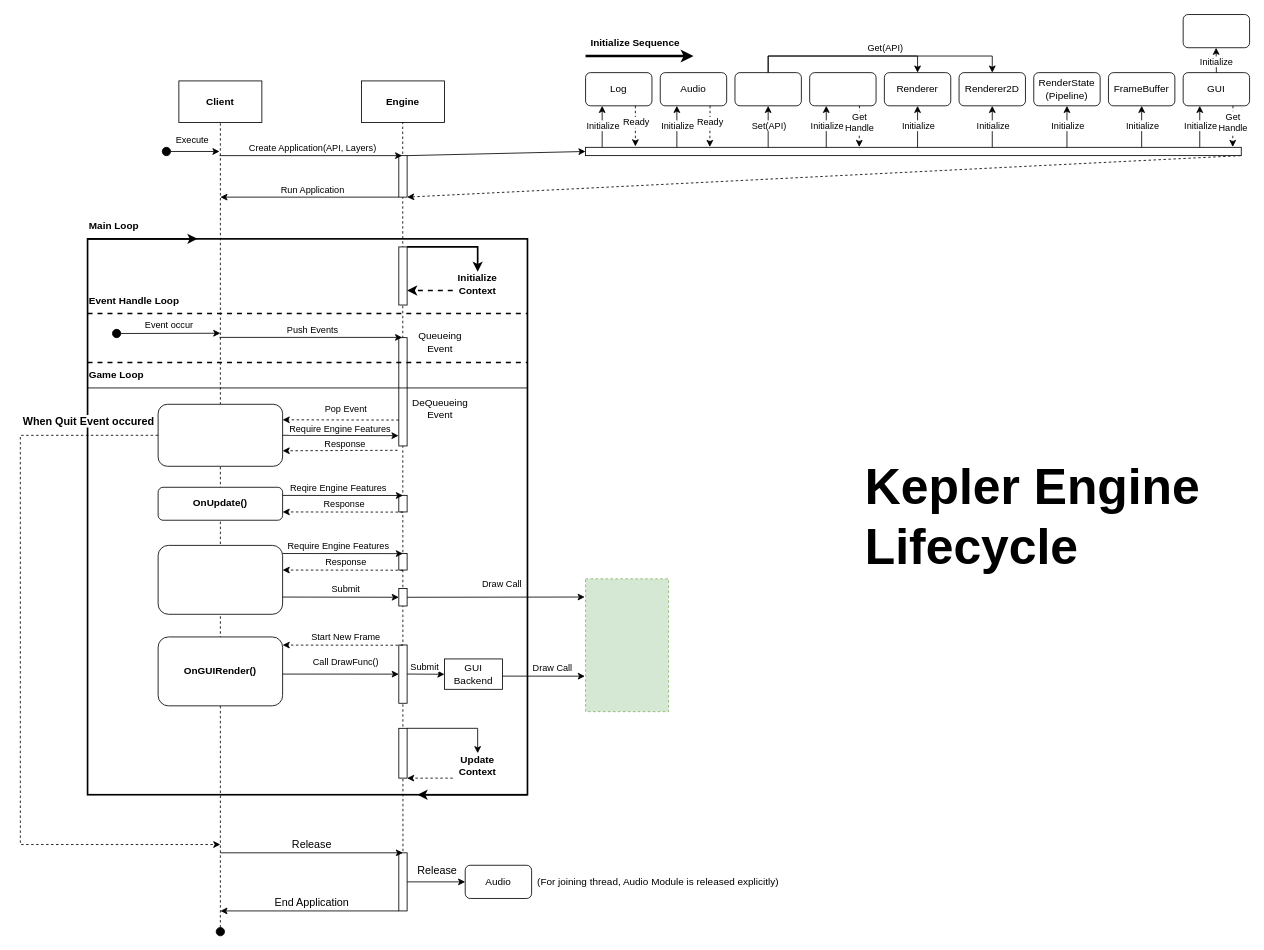
The diagram is 1264 pixels wide and 950 high, and some of its shapes have lost their labels. The shapes that lost their labels are listed below. From the top down, each one's centre as x and y in pixels, then its label:
[1216,31]: GUI Backend (ImGui)
[767,89]: GraphicsAPI
[842,89]: Window (Handle)
[220,434]: OnEvent()
[220,579]: OnRender()
[627,645]: GPU
